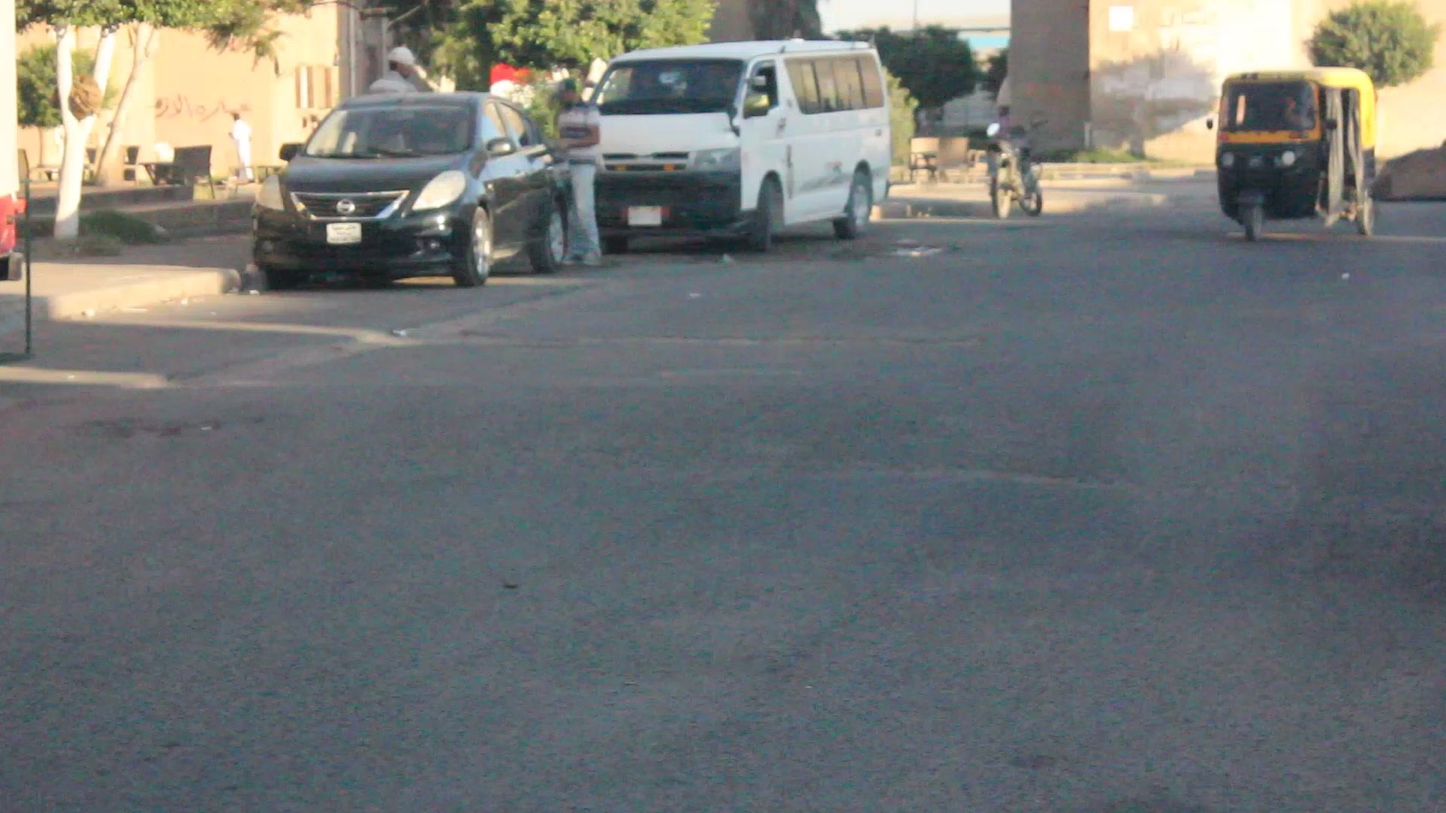Bump: (1, 382, 1444, 493)
